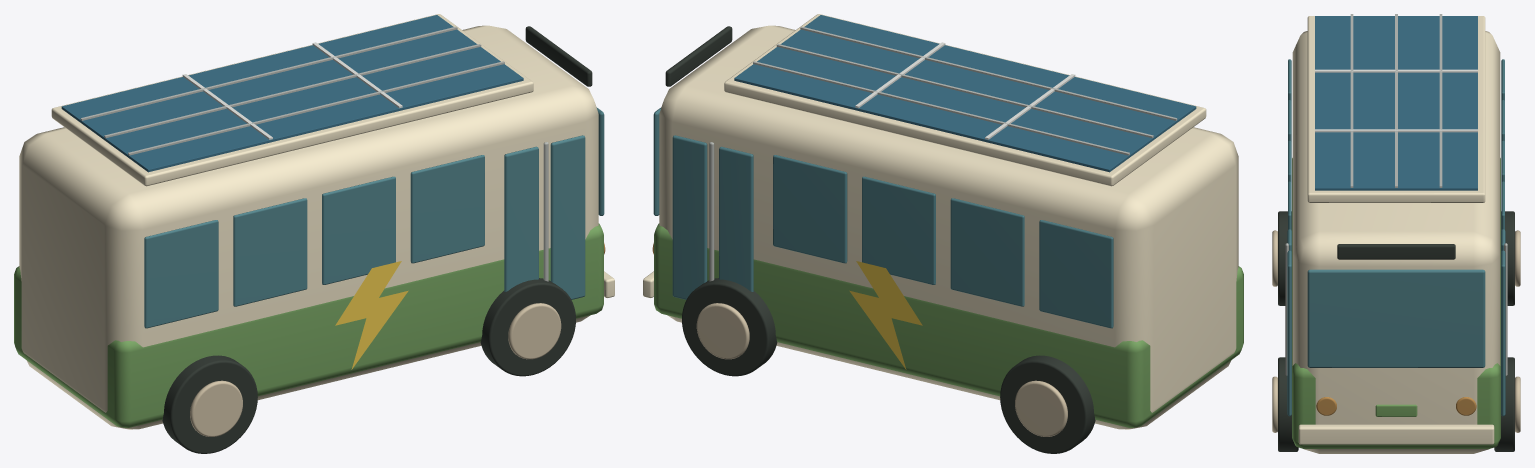
File: asset11.glb
3 renders of one model, left to right at view 1: azimuth 30°, elevation 25°; view 2: azimuth 150°, elevation 25°; view 3: azimuth 270°, elevation 25°, orthographic. The views are drawn at different scales.
Parts seen in each view (by area): view 1: 11_electric_bus; view 2: 11_electric_bus; view 3: 11_electric_bus.
Boxes of the visible parts, x1=… form: 11_electric_bus: x1=14, y1=14, x2=614, y2=453; 11_electric_bus: x1=643, y1=14, x2=1243, y2=453; 11_electric_bus: x1=1272, y1=14, x2=1520, y2=453.
Size of the model in its own units: 1 by 0.5397 by 0.4568.
